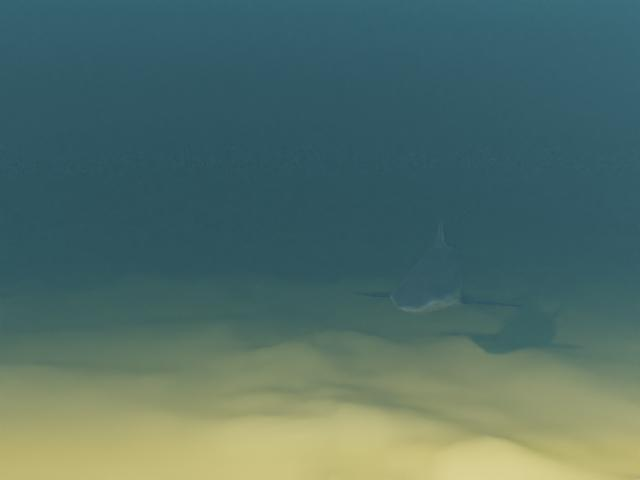Carribean Shark.001: (355, 201, 524, 313)
